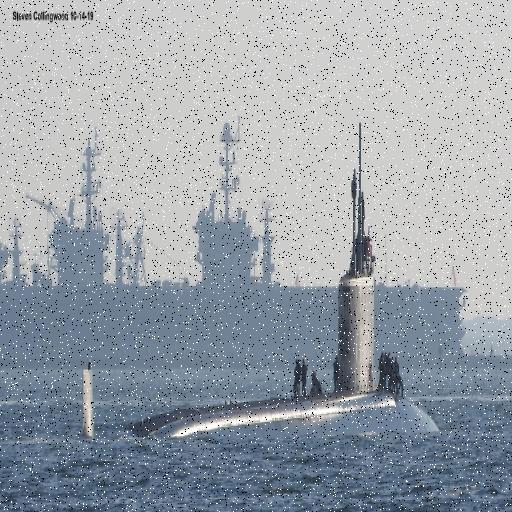submarine: (84, 102, 442, 452)
